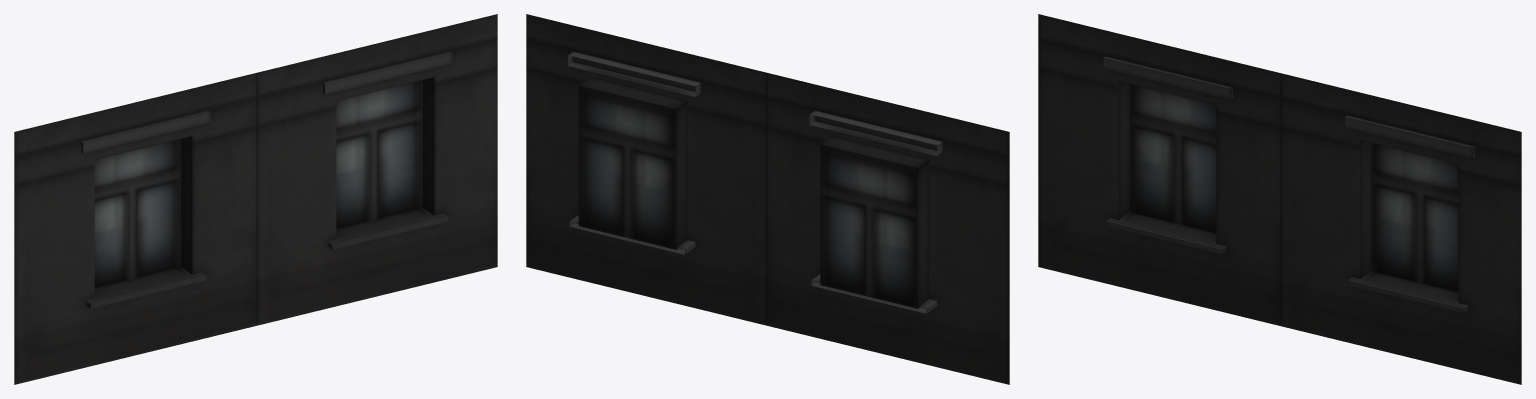
File: B9_WindowB2x.FBX
3 views of the same model, side by side, from view 1: azimuth 30°, elevation 25°; view 2: azimuth 150°, elevation 25°; view 3: azimuth 330°, elevation 25° (orthographic).
Parts seen in each view (by area): view 1: B9_WindowB2x; view 2: B9_WindowB2x; view 3: B9_WindowB2x.
Boxes of the visible parts, x1=… form: B9_WindowB2x: x1=14, y1=14, x2=497, y2=384; B9_WindowB2x: x1=526, y1=14, x2=1009, y2=384; B9_WindowB2x: x1=1038, y1=14, x2=1521, y2=384.
Bounding box in the file's own units: 8 × 4 × 0.4395.
